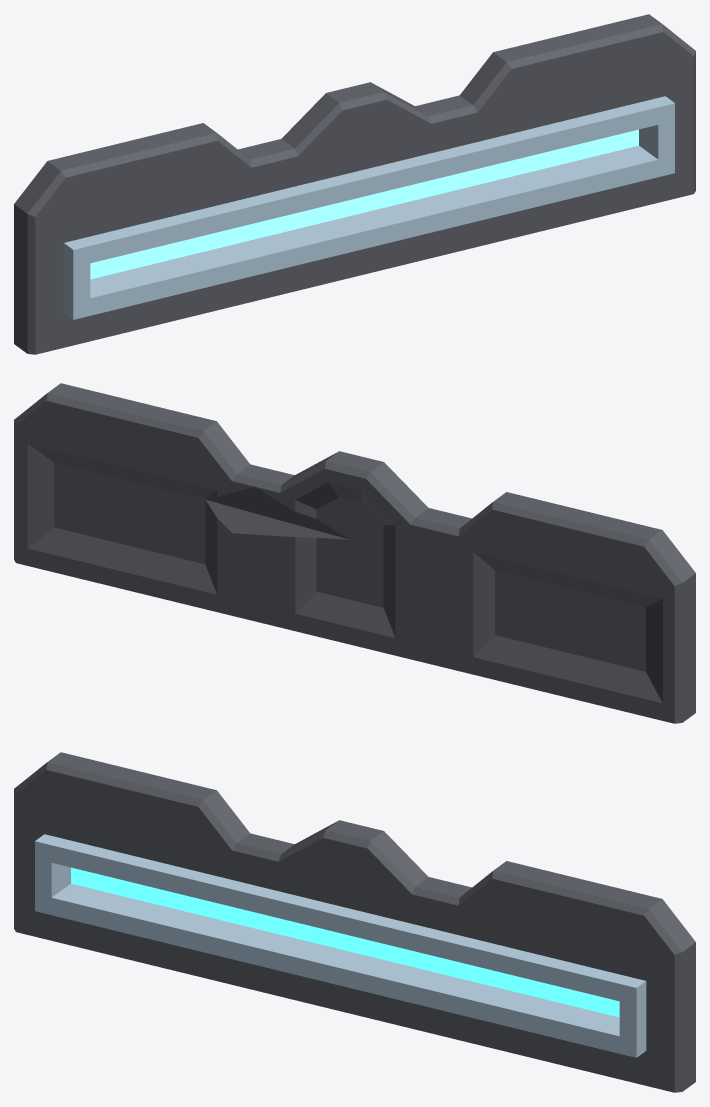
The model's file is Fence.fbx.
3 renders of one model, top to bottom at view 1: azimuth 30°, elevation 25°; view 2: azimuth 150°, elevation 25°; view 3: azimuth 330°, elevation 25°, orthographic.
Parts seen in each view (by area): view 1: Fence_Small; view 2: Fence_Small; view 3: Fence_Small.
Boxes of the visible parts, x1,y1,x2,y2 form: Fence_Small: (14,14,695,354); Fence_Small: (14,383,695,723); Fence_Small: (14,752,695,1092).
Bounding box in the file's own units: 4 × 1 × 0.3.
